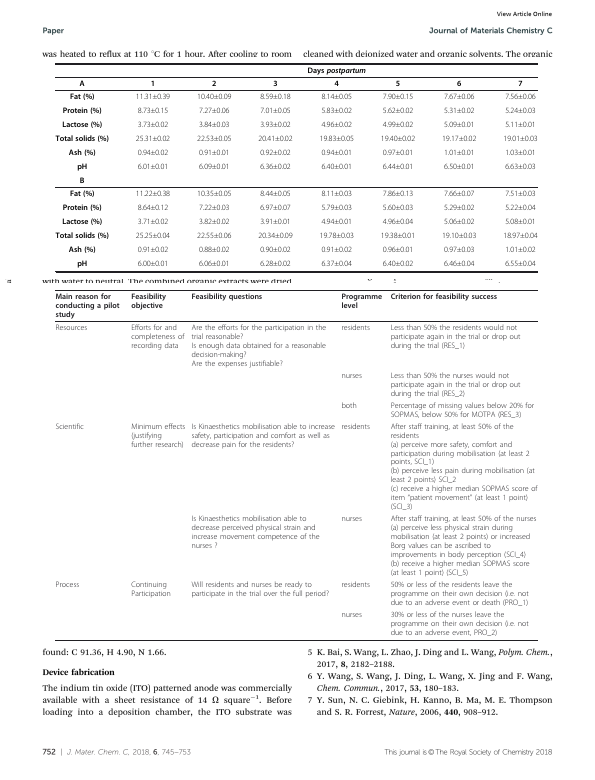borderless: (54, 288, 538, 640), (55, 62, 537, 271)
cell: (390, 422, 538, 512), (390, 514, 537, 578), (190, 323, 327, 368), (190, 514, 320, 551), (190, 422, 336, 449), (390, 580, 530, 608), (390, 610, 530, 638), (390, 323, 521, 351), (390, 371, 521, 398), (190, 580, 330, 599), (390, 401, 535, 419), (55, 292, 120, 319), (130, 323, 185, 351), (130, 422, 186, 449), (390, 292, 498, 301), (130, 580, 172, 599), (340, 292, 383, 310), (130, 292, 167, 310), (190, 292, 263, 301), (55, 134, 110, 144), (55, 231, 110, 241), (307, 66, 367, 75), (61, 120, 103, 130), (61, 217, 103, 227), (62, 106, 102, 116), (62, 203, 102, 213), (55, 323, 88, 333), (340, 323, 371, 333), (340, 580, 371, 590), (68, 148, 96, 158), (68, 245, 96, 255), (54, 422, 85, 431), (340, 422, 371, 431), (54, 580, 80, 590), (69, 92, 95, 102), (69, 189, 95, 199), (135, 93, 171, 100), (196, 93, 232, 100), (135, 135, 171, 142), (196, 135, 232, 142), (257, 135, 293, 142), (319, 135, 355, 142), (380, 135, 416, 142), (441, 135, 477, 142), (502, 135, 538, 142), (135, 190, 171, 197), (196, 190, 232, 197), (135, 232, 171, 239), (196, 232, 232, 239), (257, 232, 293, 239), (319, 232, 355, 239), (380, 232, 416, 239), (441, 232, 477, 239), (502, 232, 538, 239), (259, 93, 292, 100), (320, 93, 353, 100), (504, 93, 537, 100), (259, 107, 292, 114), (320, 107, 353, 114), (504, 107, 537, 114), (259, 121, 292, 128), (320, 121, 353, 128), (504, 121, 537, 128), (259, 149, 292, 156), (320, 149, 353, 156), (504, 149, 537, 156), (259, 163, 292, 170), (320, 163, 353, 170), (504, 163, 537, 170), (259, 190, 292, 197), (320, 190, 353, 197), (504, 190, 537, 197), (259, 204, 292, 211), (320, 204, 353, 211), (504, 204, 537, 211), (259, 218, 292, 225), (320, 218, 353, 225), (504, 218, 537, 225), (259, 246, 292, 253), (320, 246, 353, 253), (504, 246, 537, 253), (259, 260, 292, 267), (320, 260, 353, 267), (504, 260, 537, 267), (340, 514, 363, 524), (340, 610, 363, 620), (382, 93, 414, 100), (443, 93, 475, 100), (137, 107, 169, 114), (198, 107, 230, 114), (382, 107, 414, 114), (443, 107, 475, 114), (137, 121, 169, 128), (198, 121, 230, 128), (382, 121, 414, 128), (443, 121, 475, 128), (137, 149, 169, 156), (198, 149, 230, 156), (382, 149, 414, 156), (443, 149, 475, 156), (137, 163, 169, 170), (198, 163, 230, 170), (382, 163, 414, 170), (443, 163, 475, 170), (382, 190, 414, 197), (443, 190, 475, 197), (137, 204, 169, 211), (198, 204, 230, 211), (382, 204, 414, 211), (443, 204, 475, 211), (137, 218, 169, 225), (198, 218, 230, 225), (382, 218, 414, 225), (443, 218, 475, 225), (137, 246, 169, 253), (198, 246, 230, 253), (382, 246, 414, 253), (443, 246, 475, 253), (137, 260, 169, 267), (198, 260, 230, 267), (382, 260, 414, 267), (443, 260, 475, 267), (340, 371, 363, 380), (340, 401, 358, 410), (76, 162, 88, 172), (76, 259, 88, 269), (79, 79, 86, 89), (333, 79, 340, 89), (150, 79, 156, 89), (211, 79, 217, 89), (272, 79, 278, 89), (395, 79, 401, 89), (456, 79, 462, 89), (517, 79, 523, 89), (79, 176, 85, 186)
